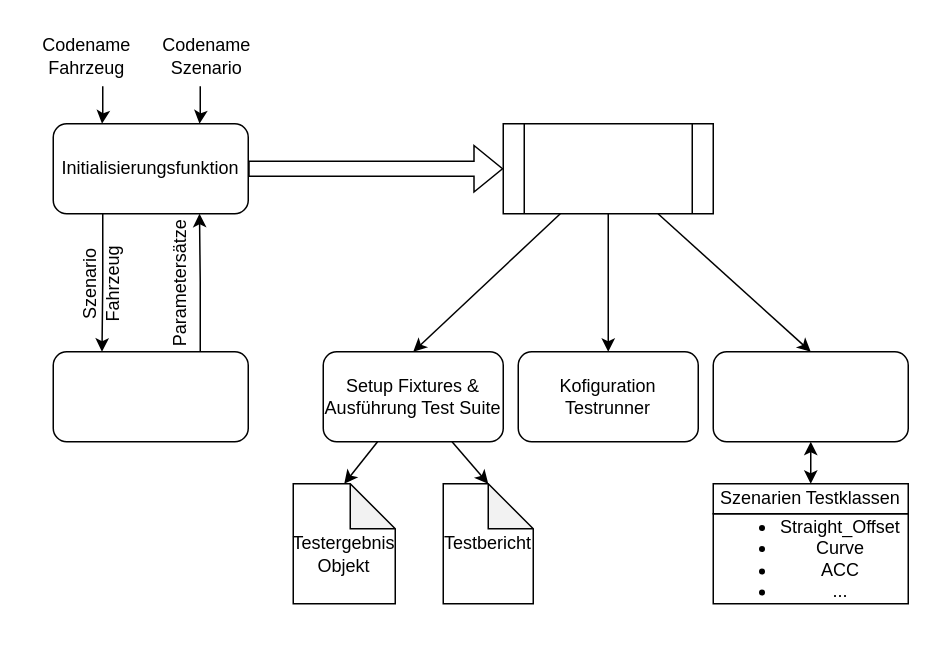
The diagram is 935 pixels wide and 645 high, and some of its shapes have lost their labels. Each missing label, with the centre of its shape:
Erstellung Test Suite aus Testklasse "Szenario" mit externen Parametern: pixel 810 396
Parametergenerierung: pixel 150 396
Umgebungsklasse: pixel 607 168
